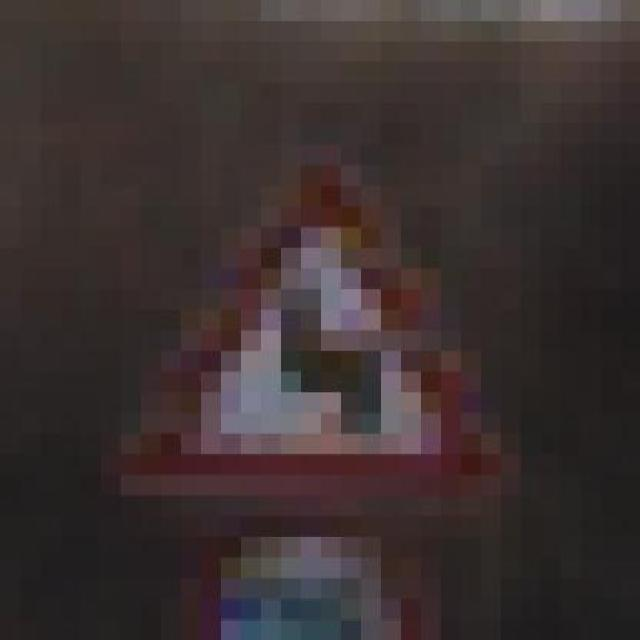Left Zig Zag Traffic: (100, 145, 540, 537)
